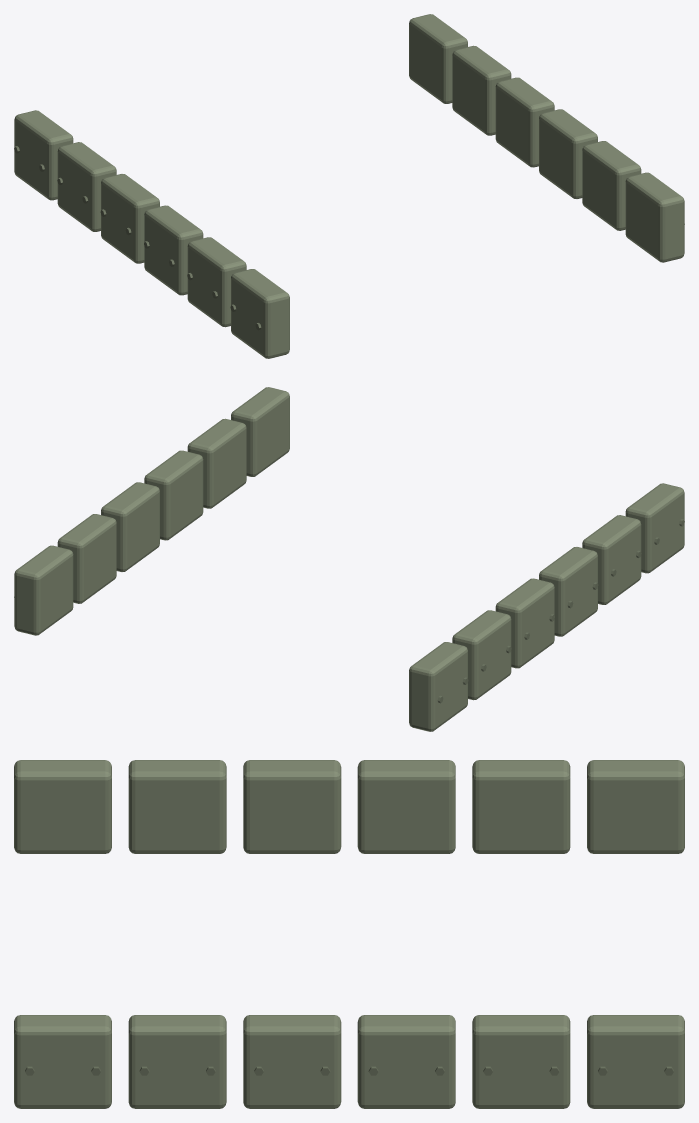
Rendered from armor_1.glb.
3 views of the same model, one above another, from view 1: azimuth 30°, elevation 25°; view 2: azimuth 150°, elevation 25°; view 3: azimuth 270°, elevation 25° (orthographic). The views are drawn at different scales.
Visible parts, largest first — view 1: armor_1; view 2: armor_1; view 3: armor_1.
Boxes of the visible parts, left/top/right/bottom form: armor_1: left=14, top=14, right=684, bottom=358; armor_1: left=14, top=387, right=684, bottom=731; armor_1: left=14, top=760, right=684, bottom=1108.
Bounding box in the file's own units: 4.32 × 0.6 × 4.45.
